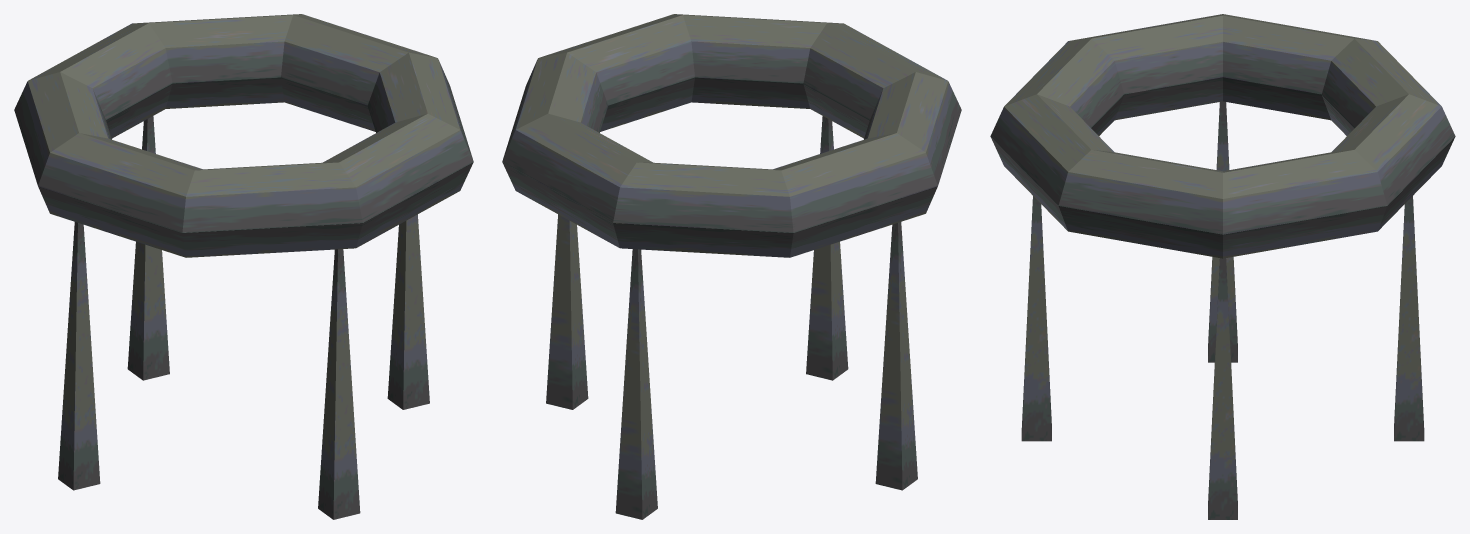
Rendered from CoreStand.obj.
3 renders of one model, left to right at view 1: azimuth 30°, elevation 25°; view 2: azimuth 150°, elevation 25°; view 3: azimuth 270°, elevation 25°, orthographic. The views are drawn at different scales.
Visible parts, largest first — view 1: CoreStand; view 2: CoreStand; view 3: CoreStand.
Part boxes in pixels (box(x1,y1,x2,y2)): CoreStand: box(14, 14, 473, 519); CoreStand: box(502, 14, 961, 519); CoreStand: box(990, 14, 1455, 519).
Bounding box in the file's own units: 10 × 8.08 × 10.
Materials: 1 (1 with a texture image).
